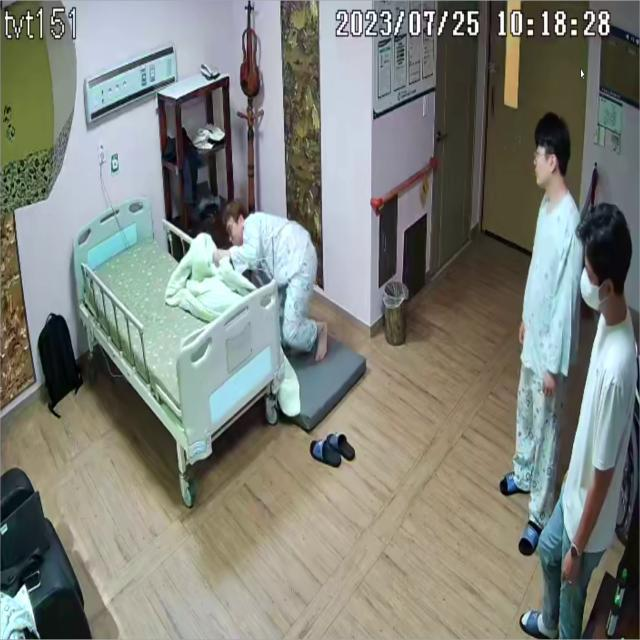danger: (220, 200, 329, 362)
patient: (500, 109, 580, 556), (220, 200, 328, 362)
